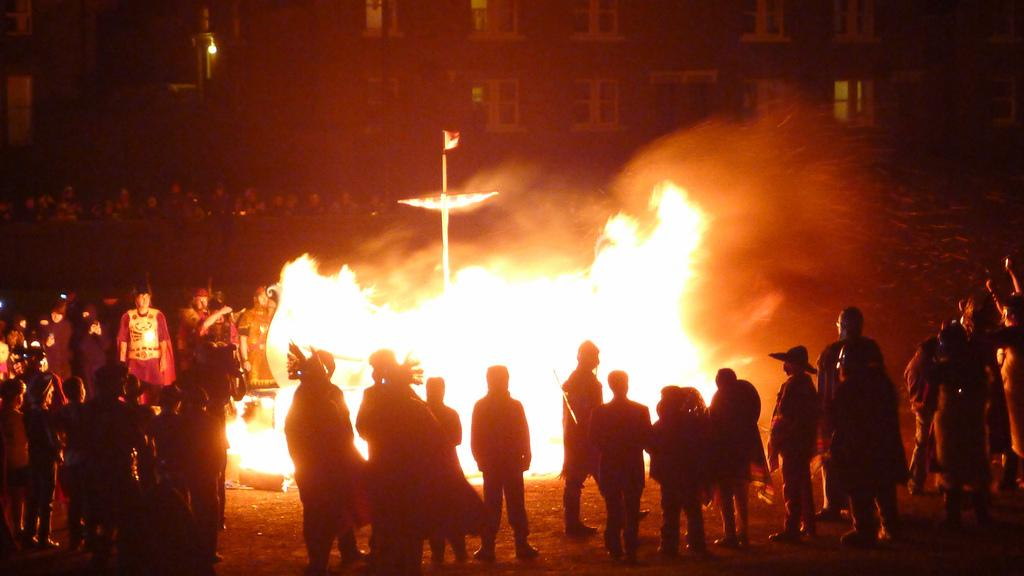fire: (274, 264, 576, 366), (597, 214, 694, 389), (530, 380, 569, 450)
